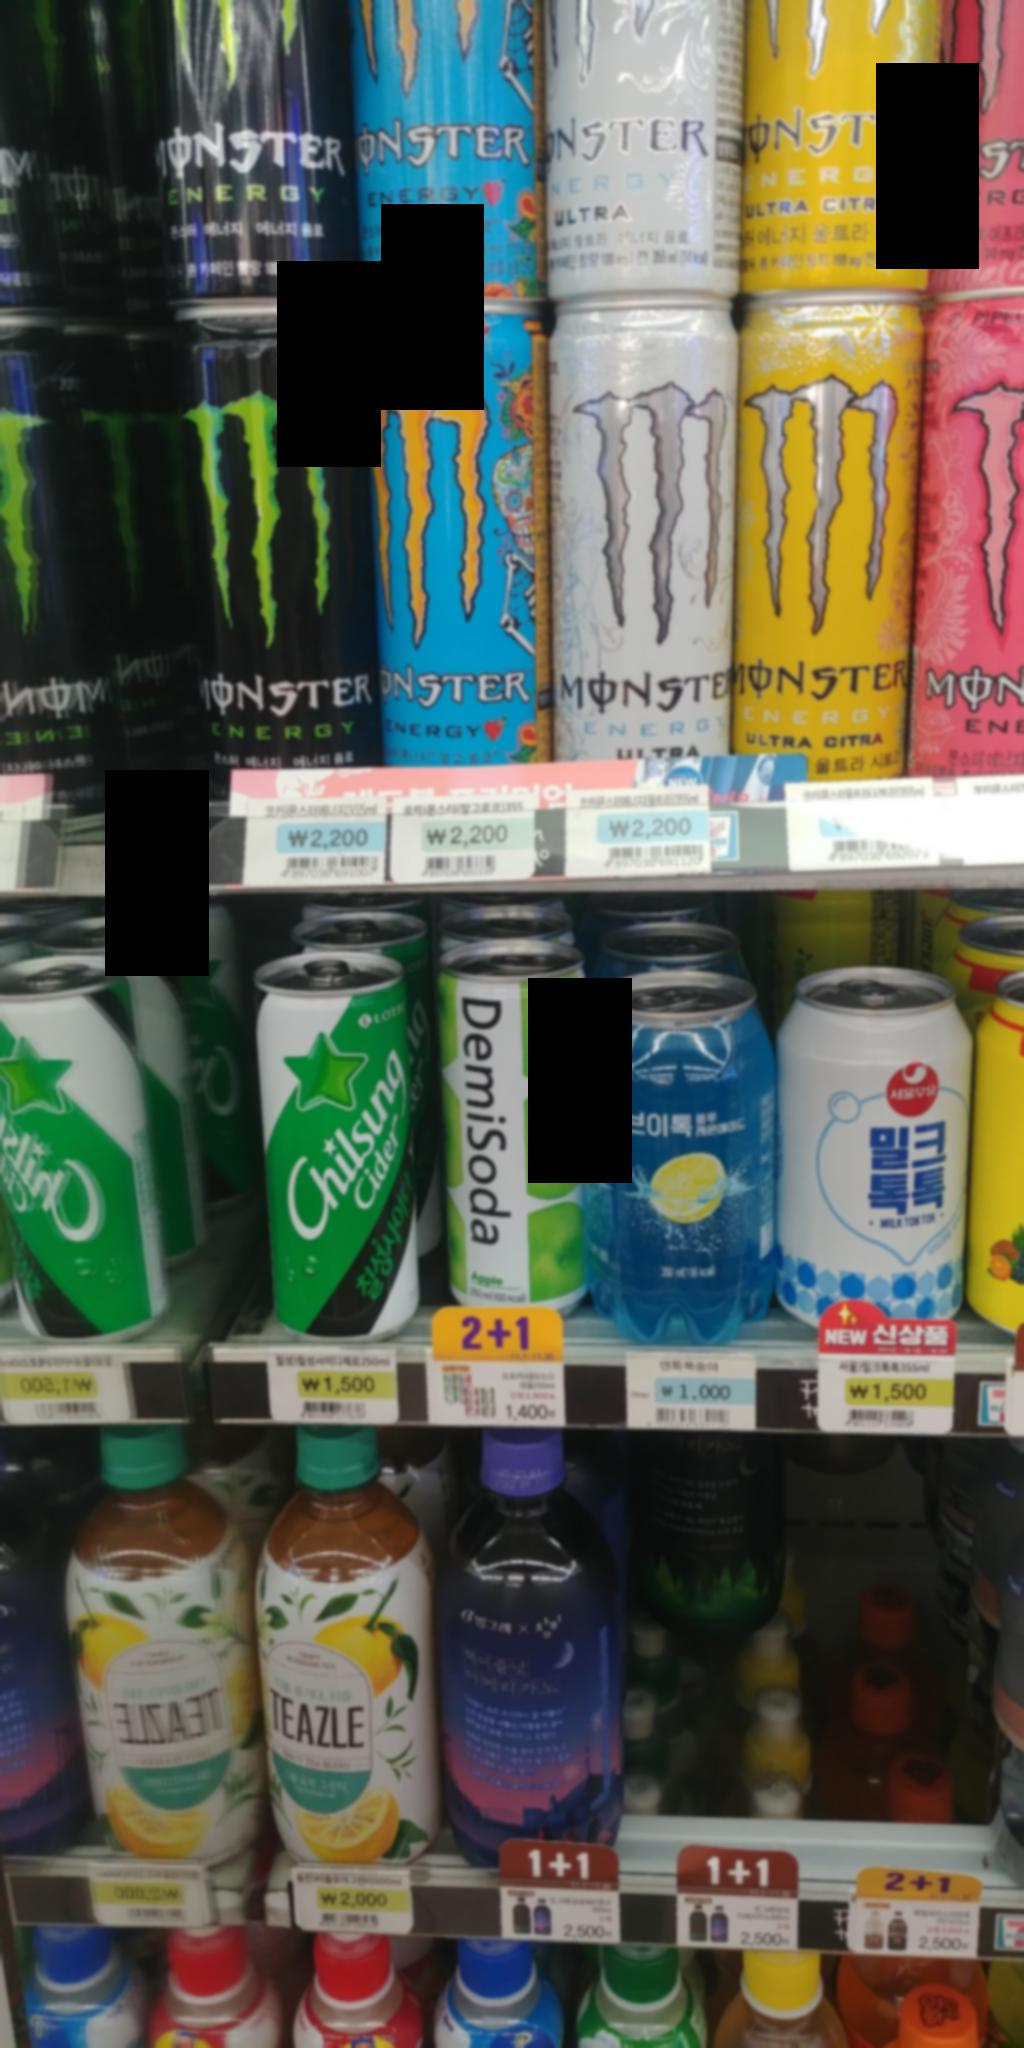chilsungcider_zero: (242, 950, 426, 1347)
